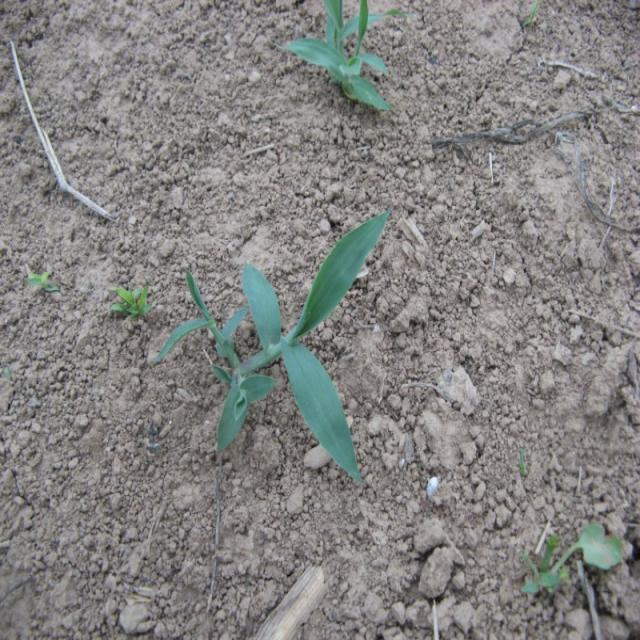bg: (153, 207, 395, 487)
